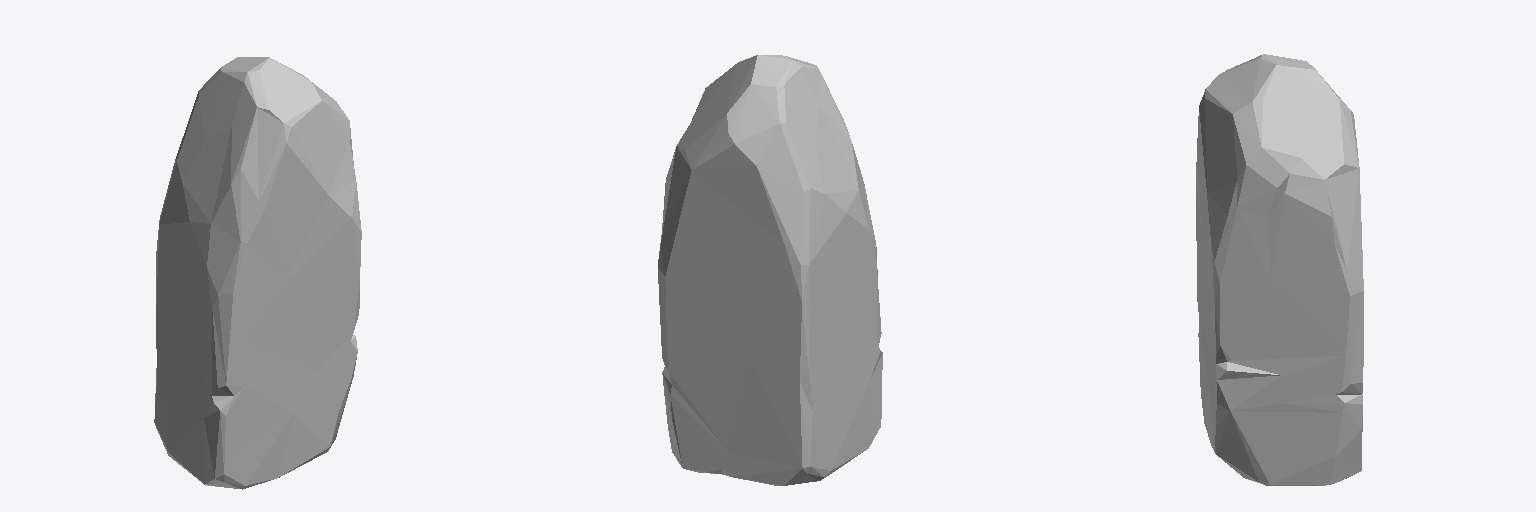
Rendered from SmallRock4.obj.
The picture shows the model from 3 angles: view 1: azimuth 30°, elevation 25°; view 2: azimuth 150°, elevation 25°; view 3: azimuth 270°, elevation 25°; orthographic projection.
Visible parts, largest first — view 1: rock4; view 2: rock4; view 3: rock4.
Boxes of the visible parts, x1=… form: rock4: x1=154, y1=57, x2=361, y2=489; rock4: x1=658, y1=55, x2=882, y2=485; rock4: x1=1196, y1=54, x2=1363, y2=485.
Size of the model in its own units: 51.03 by 124 by 47.82.